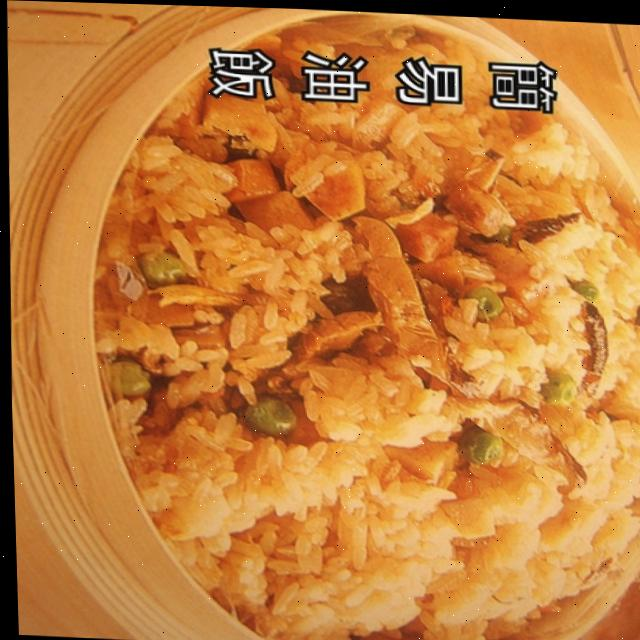米饭主食: (55, 23, 640, 640)
